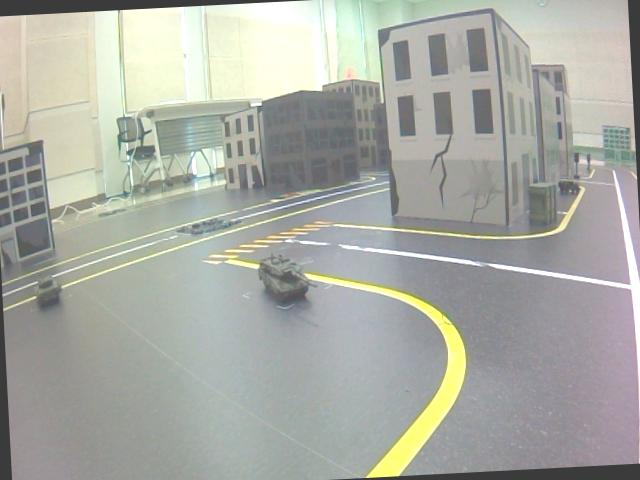Box: (526, 178, 558, 228)
Car: (558, 178, 582, 196)
Enemy: (584, 150, 595, 174)
Tank: (256, 249, 322, 313), (34, 278, 63, 307)
